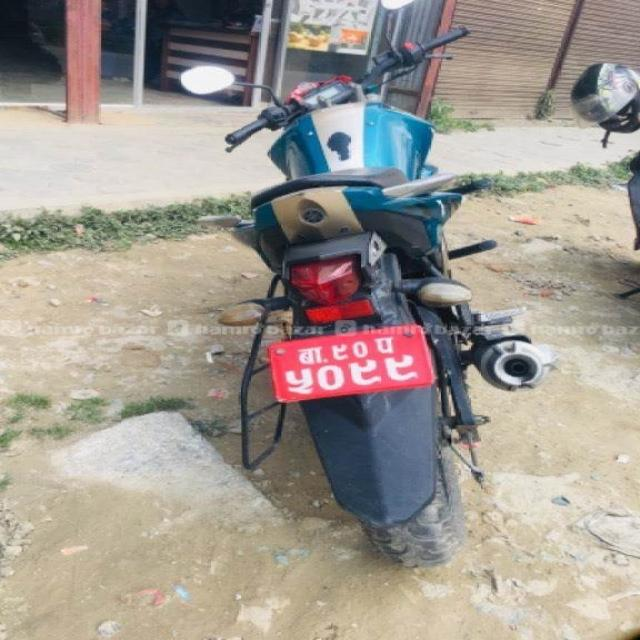License-plate: (242, 328, 444, 402)
